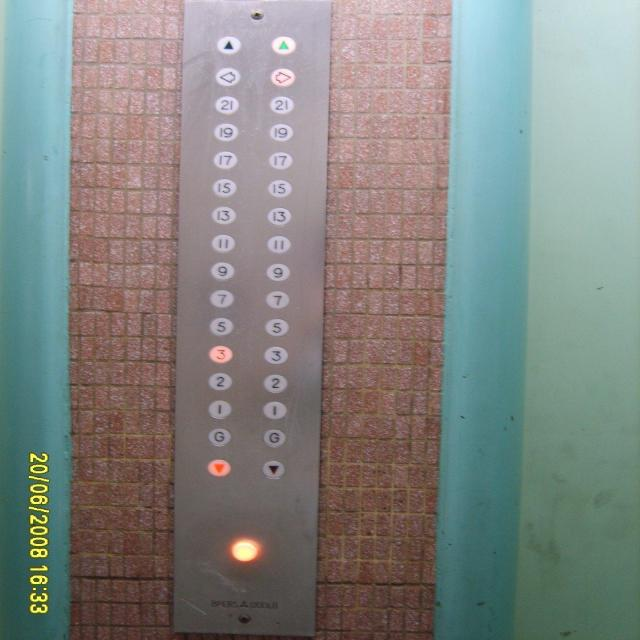1: (260, 399, 290, 422), (204, 398, 234, 420)
11: (264, 233, 293, 256), (208, 232, 238, 254)
13: (264, 205, 294, 228), (208, 204, 238, 227)
15: (210, 177, 240, 199), (264, 177, 294, 199)
17: (265, 149, 294, 172), (210, 149, 240, 171)
19: (266, 121, 295, 144), (211, 121, 240, 143)
2: (205, 370, 235, 392), (260, 372, 290, 394)
21: (212, 93, 241, 116), (267, 93, 296, 116)
3: (205, 343, 235, 366), (261, 344, 291, 366)
5: (206, 315, 236, 338), (262, 316, 291, 338)
7: (207, 287, 236, 310), (263, 289, 292, 311)
9: (263, 260, 293, 283), (207, 260, 237, 282)
G: (204, 426, 234, 448), (259, 427, 289, 449)
down: (259, 458, 288, 481), (204, 457, 234, 479)
empty: (229, 540, 260, 563)
unknown: (213, 65, 242, 87), (268, 66, 297, 88)
up: (214, 34, 243, 57), (268, 34, 298, 56)
